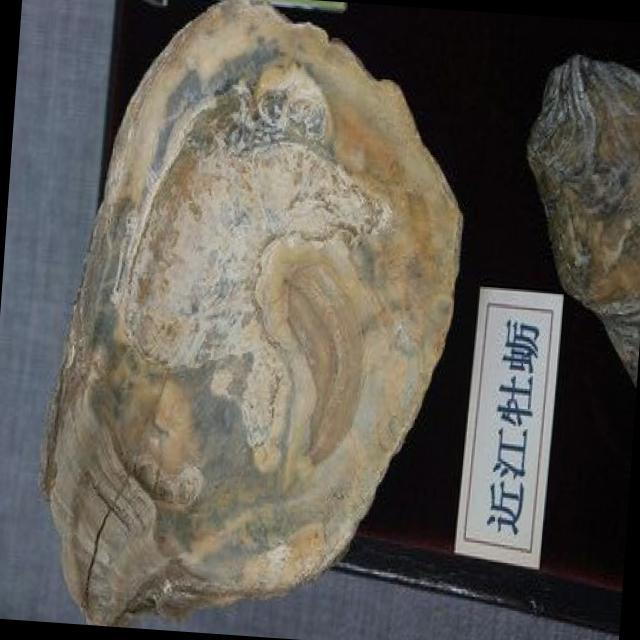Oyster- Indeterminate: (44, 0, 461, 623), (528, 55, 640, 379)
